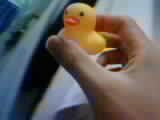duck: (52, 1, 117, 59)
